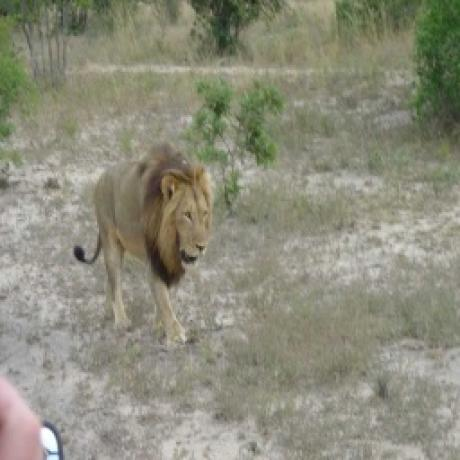Lion: (66, 144, 218, 347)
